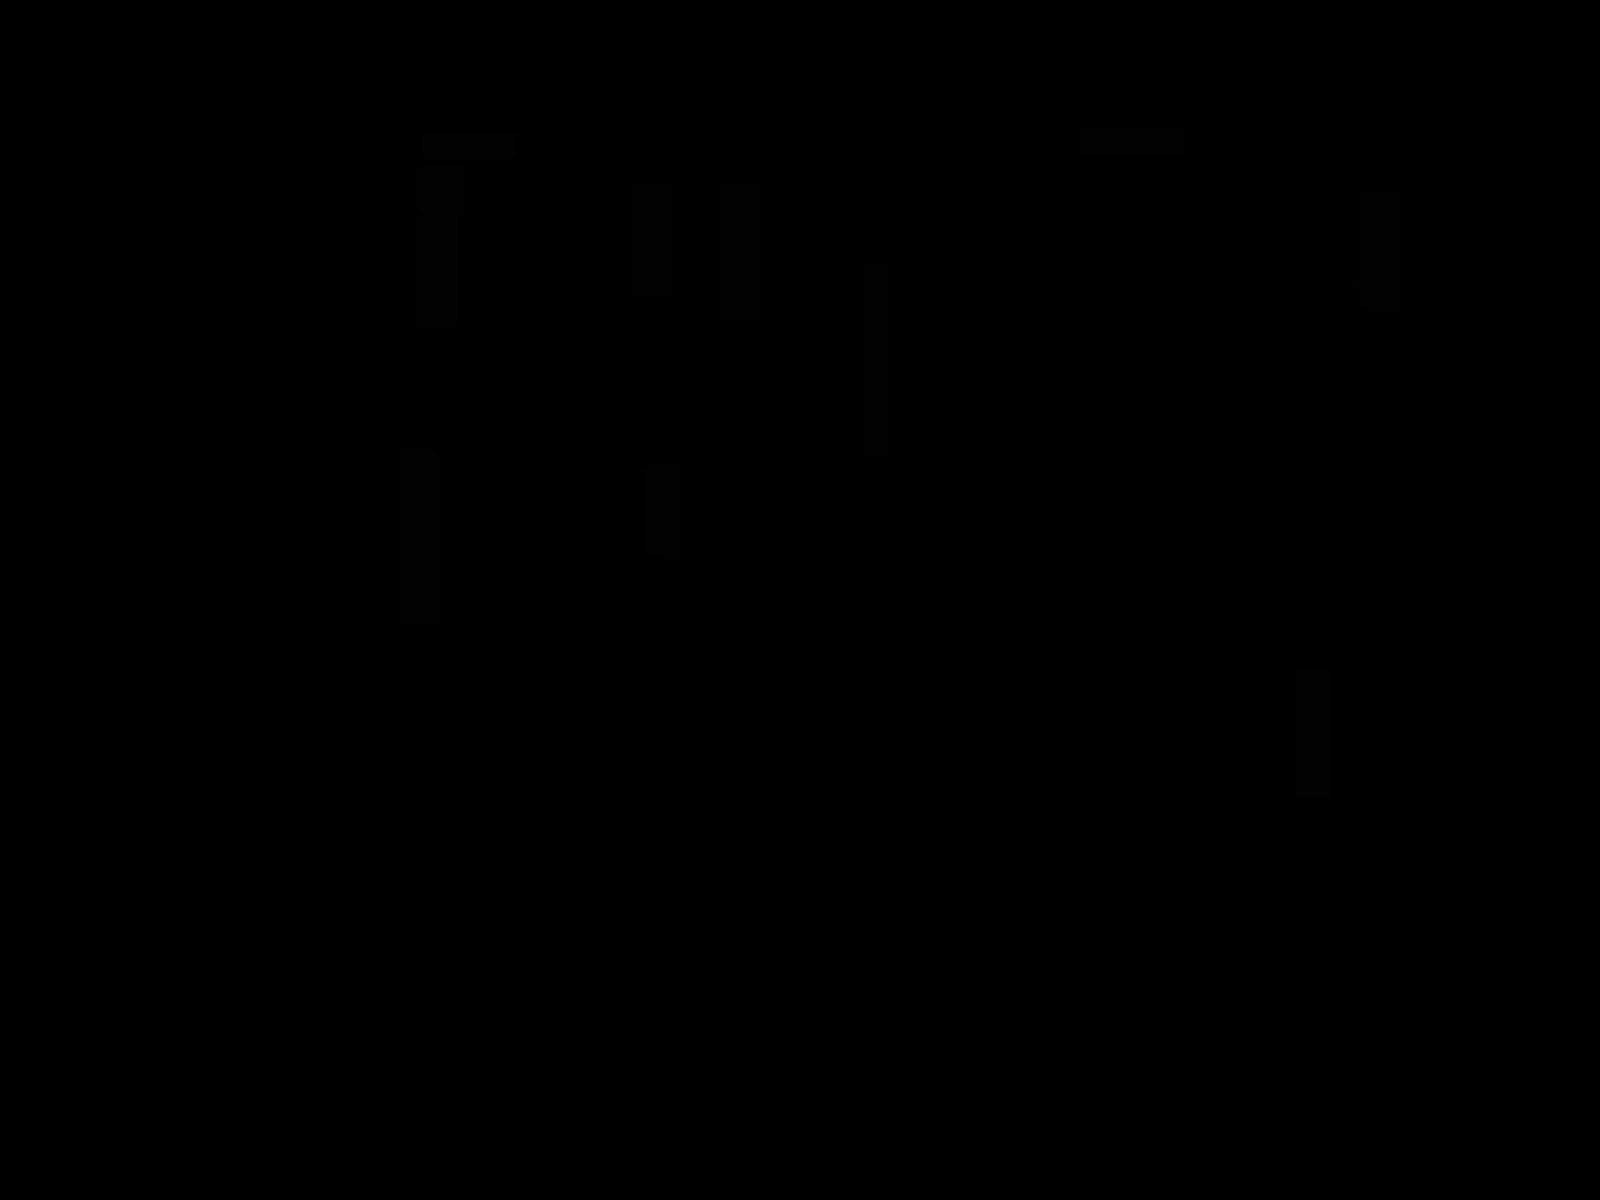1_overall: (76, 55, 1524, 1005)
3_typography: (401, 453, 437, 621), (862, 268, 889, 454), (719, 187, 758, 316), (1359, 192, 1398, 309), (418, 217, 459, 325), (1296, 671, 1330, 798), (635, 187, 669, 296), (644, 466, 678, 557), (421, 134, 517, 158), (1080, 132, 1186, 154)
4_illustration: (873, 626, 1364, 945), (910, 284, 1361, 517), (452, 492, 659, 800), (204, 494, 401, 802), (220, 185, 407, 392)
5_stamp: (420, 166, 465, 212)
